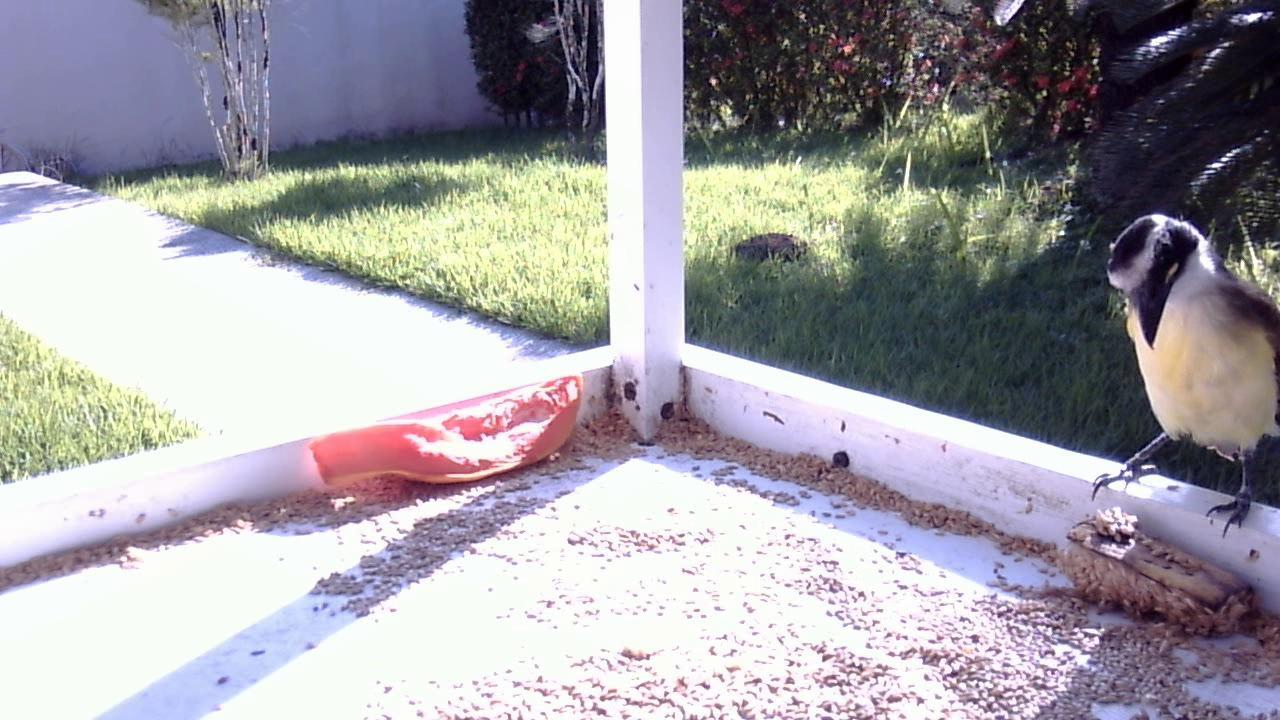bem_te_vi: (1080, 198, 1277, 555)
